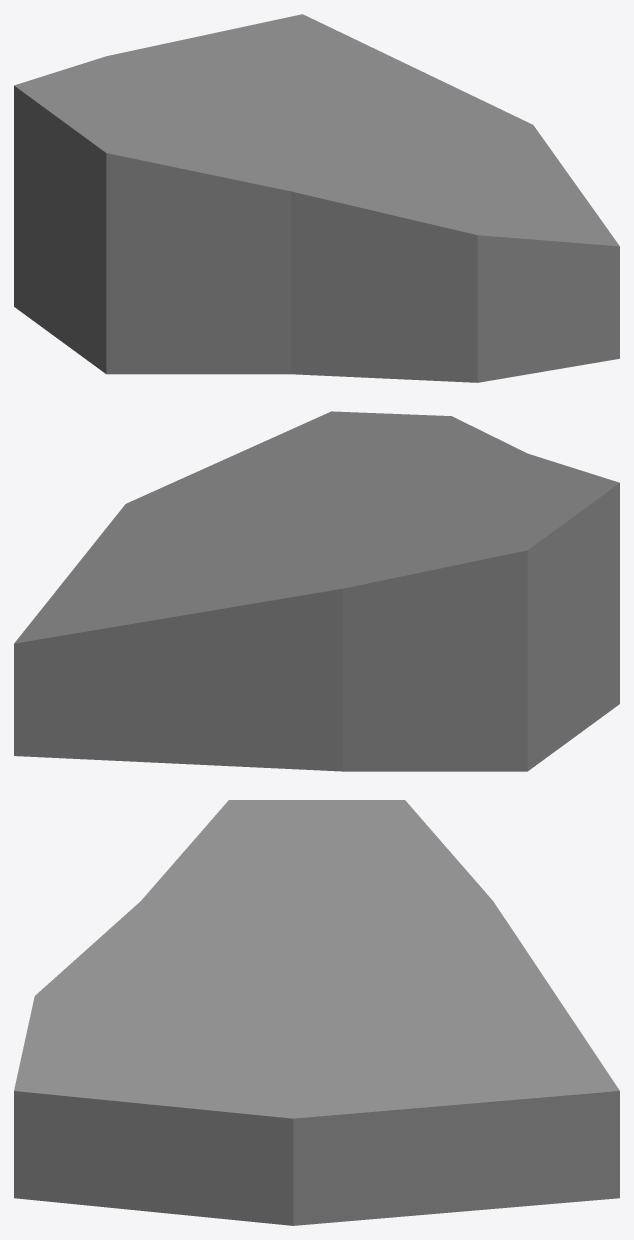
File: SPW_Natures_Stone_05.glb
3 views of the same model, one above another, from view 1: azimuth 30°, elevation 25°; view 2: azimuth 150°, elevation 25°; view 3: azimuth 270°, elevation 25° (orthographic). The views are drawn at different scales.
Parts seen in each view (by area): view 1: SPW_Natures_Stone_05; view 2: SPW_Natures_Stone_05; view 3: SPW_Natures_Stone_05.
Boxes of the visible parts, box(x1,y1,x2,y2) form: SPW_Natures_Stone_05: box(14, 14, 619, 382); SPW_Natures_Stone_05: box(14, 411, 619, 771); SPW_Natures_Stone_05: box(14, 800, 619, 1225).
Bounding box in the file's own units: 1.44 × 0.6612 × 1.72.
1 material, 1 textured.
